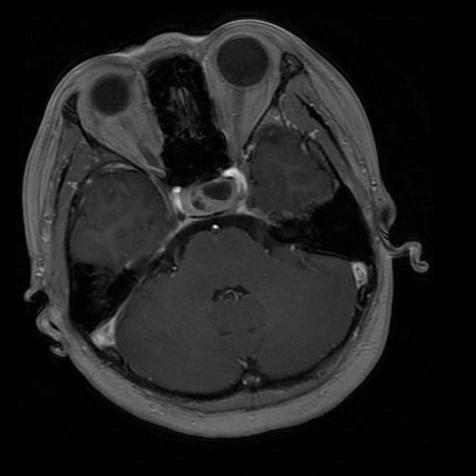Tumour-Pituitary: (168, 181, 258, 228)
